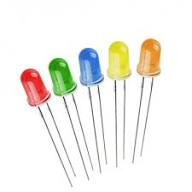jumper_wire: (14, 33, 177, 152)
